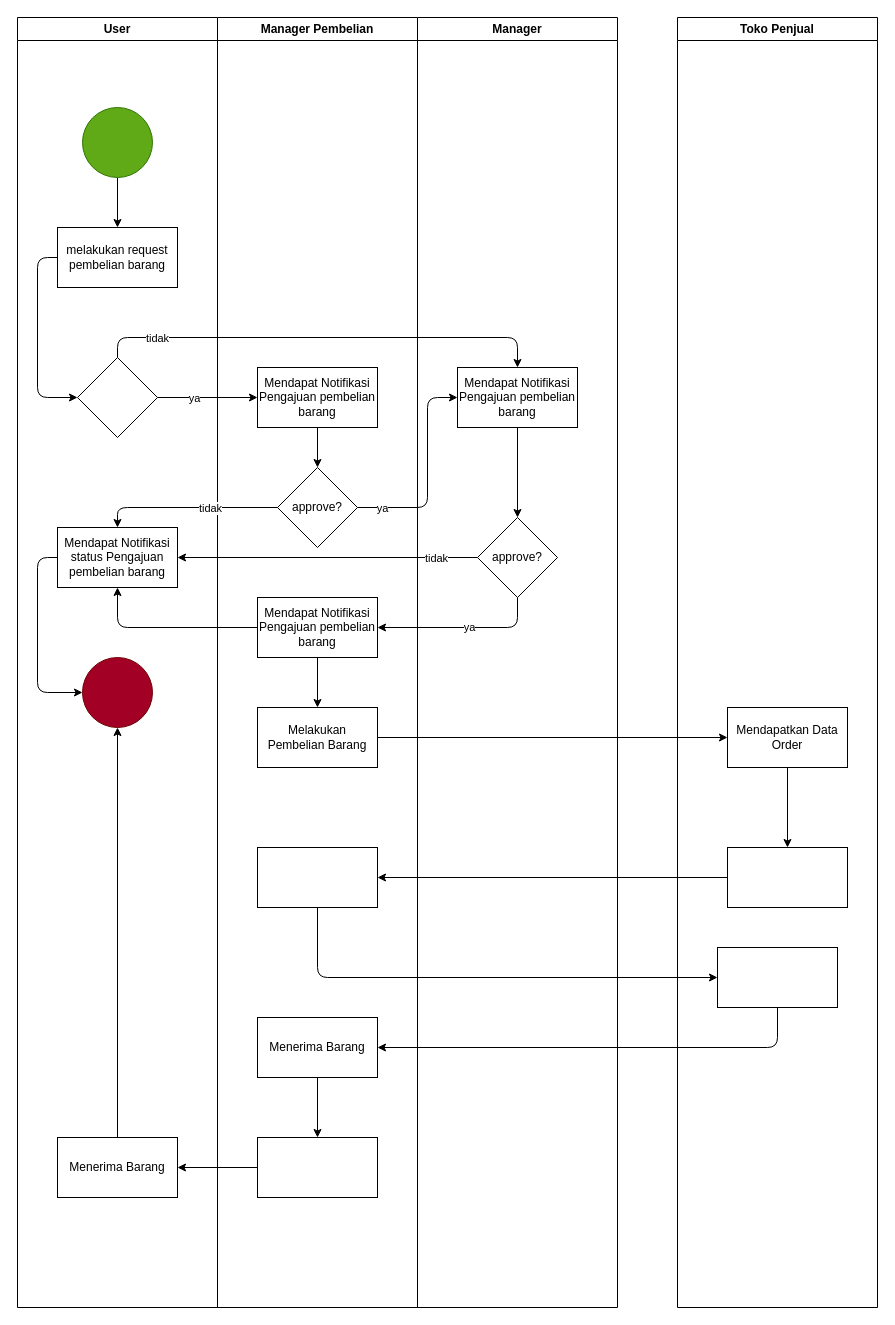
The diagram is 895 pixels wide and 1325 high, and some of its shapes have lost their labels. Here are the shapes that lost their labels. From the top down, the centre of each, then its label:
At point (117, 142): "Start".
At point (117, 397): "pembelian > 10 juta?".
At point (117, 692): "end".
At point (317, 877): "Melakukan pembayaran".
At point (787, 877): "Membuat dan mengirim nota PO".
At point (777, 977): "Konfirmasi Pembayaran dan Pengiriman".
At point (317, 1167): "Memberikan barang ke User".
